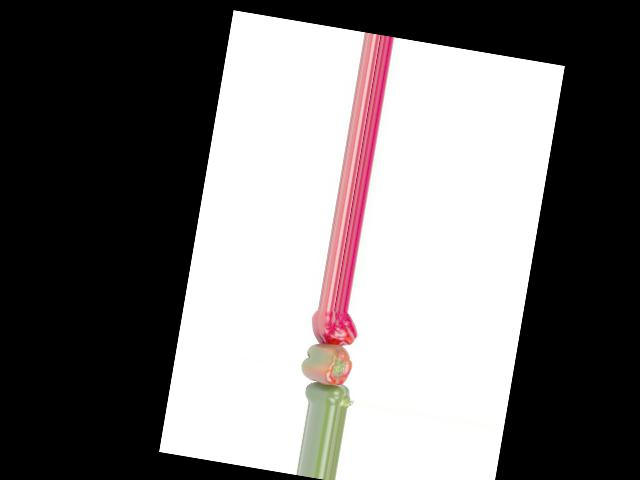bell_pepper: (305, 306, 364, 350)
